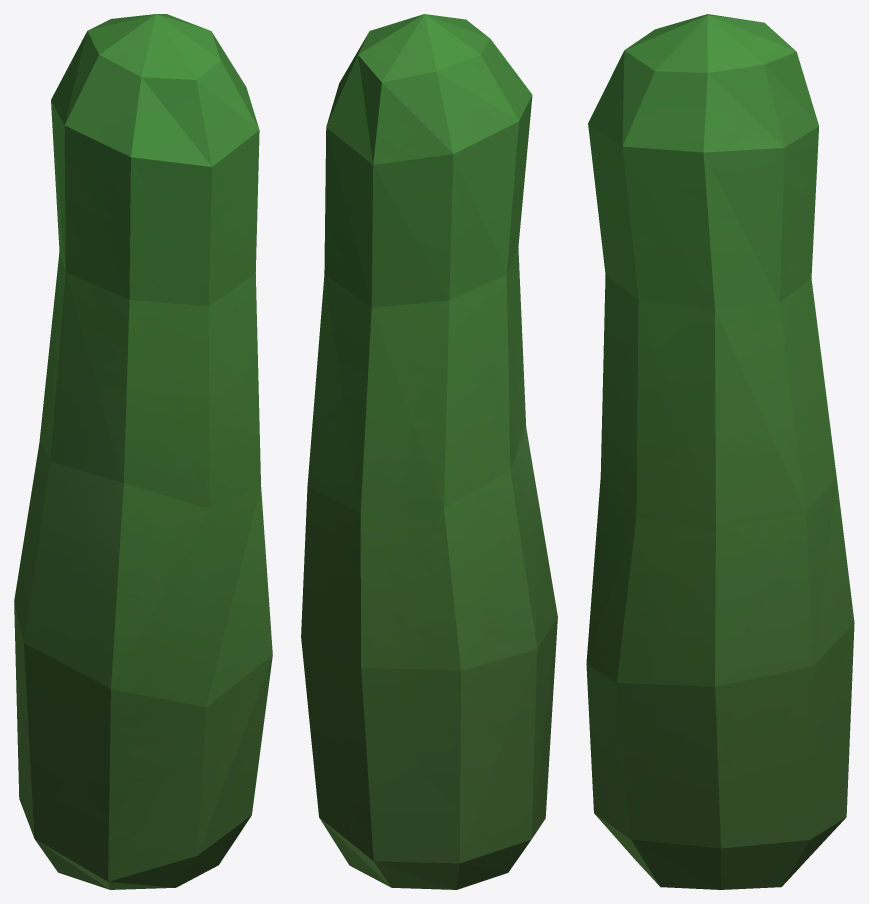
File: food_pickle.FBX
3 views of the same model, side by side, from view 1: azimuth 30°, elevation 25°; view 2: azimuth 150°, elevation 25°; view 3: azimuth 270°, elevation 25° (orthographic). The views are drawn at different scales.
Parts seen in each view (by area): view 1: food_pickle; view 2: food_pickle; view 3: food_pickle.
Boxes of the visible parts, <box> form: food_pickle: <box>14,14,272,889</box>; food_pickle: <box>301,14,557,889</box>; food_pickle: <box>586,14,854,889</box>.
Bounding box in the file's own units: 60.77 × 221 × 60.96.
